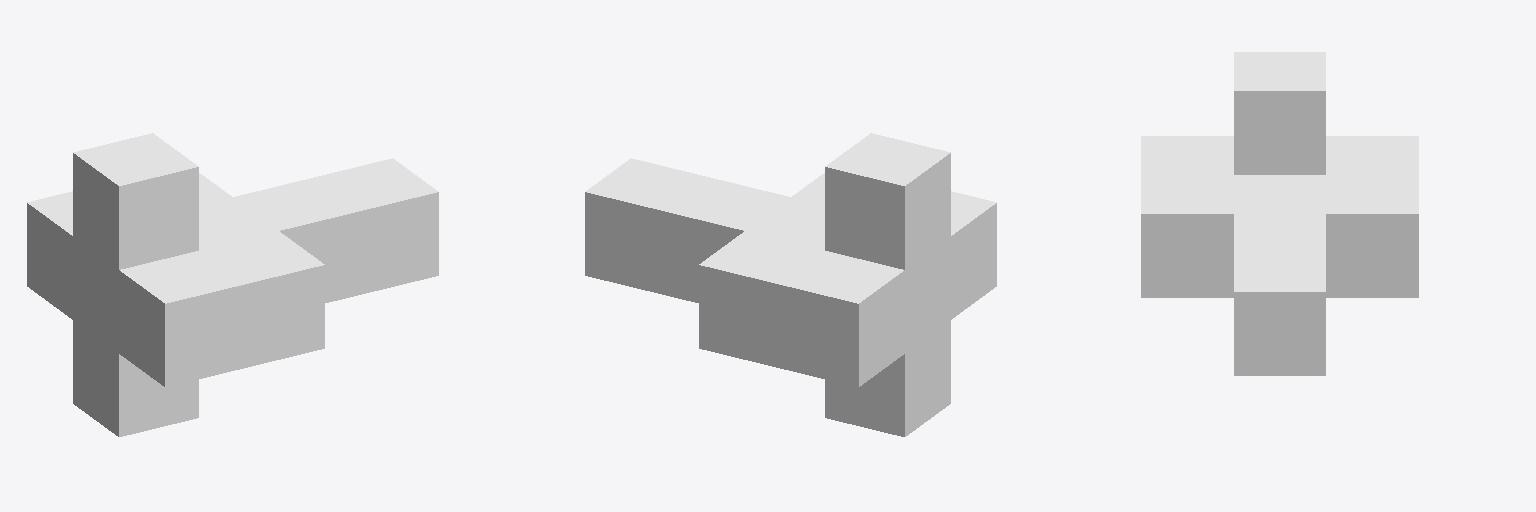
File: BlasterSmall1Turret.obj
The picture shows the model from 3 angles: view 1: azimuth 30°, elevation 25°; view 2: azimuth 150°, elevation 25°; view 3: azimuth 270°, elevation 25°; orthographic projection.
Size of the model in its own units: 4 by 3 by 3.